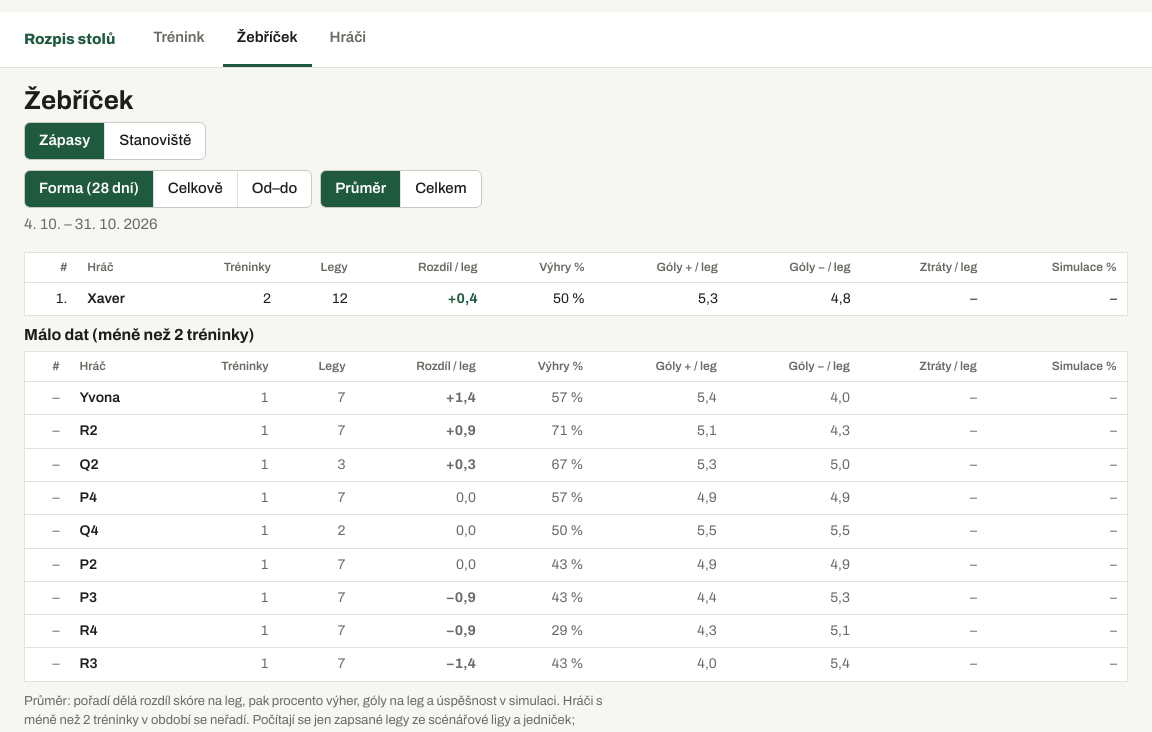
it: stránka Žebříček › Forma + Průměr: X s +0,4 a 50 %, Y v „Málo dat“; Celkem: Y nad X
expect the text "4. 10. – 31. 10. 2026" is shown: met, box [24, 216, 158, 232]
expect the row "1. Xaver 2 12 +0,4 50 % 5,3 4,8 – –" is shown: met, box [24, 282, 1128, 316]
Click the button "Celkem" at (441, 189), box [401, 171, 481, 207]
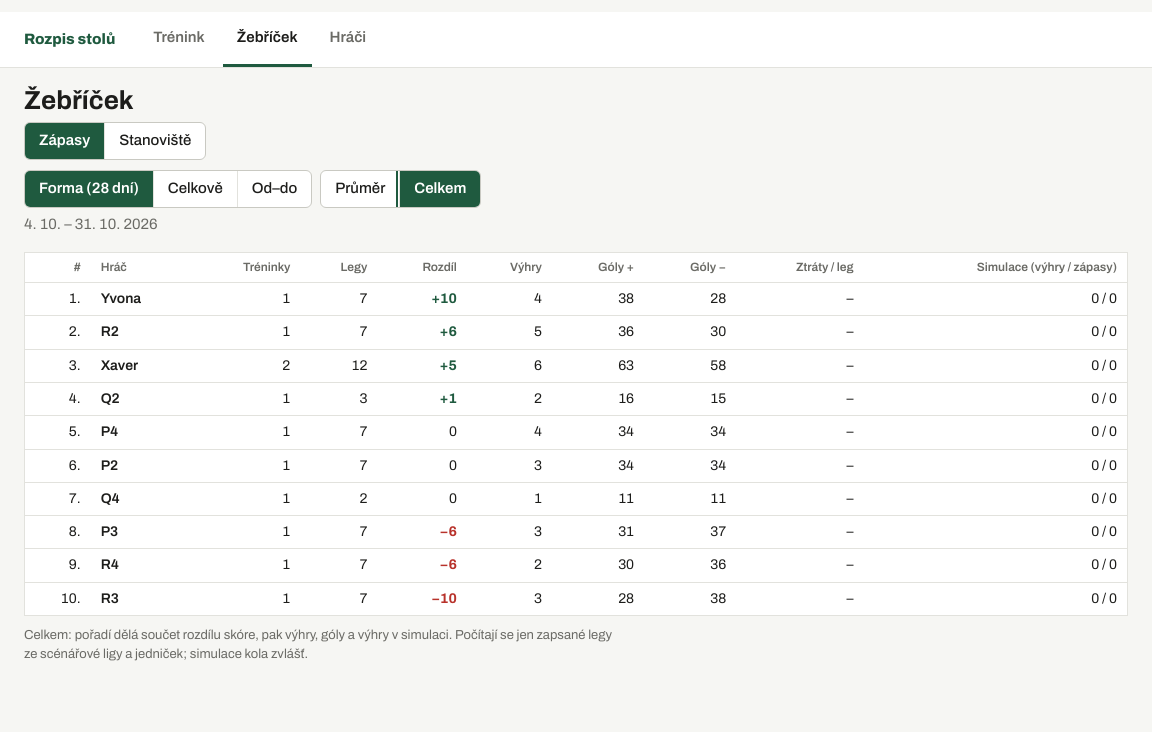
expect the heading "Málo dat" is gone: met
